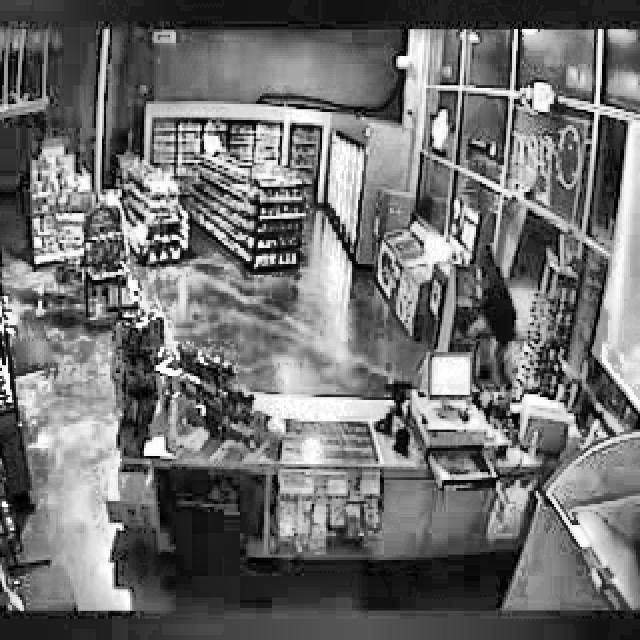burglary: (438, 232, 522, 404)
